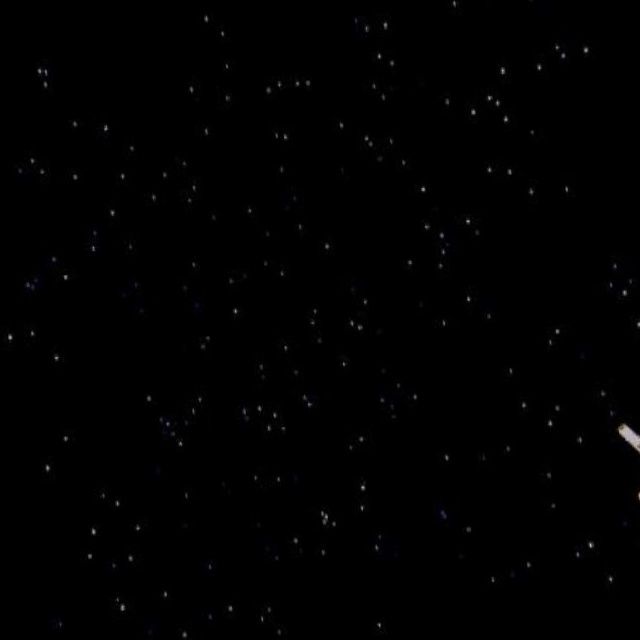medium_debris: (612, 409, 640, 571)
